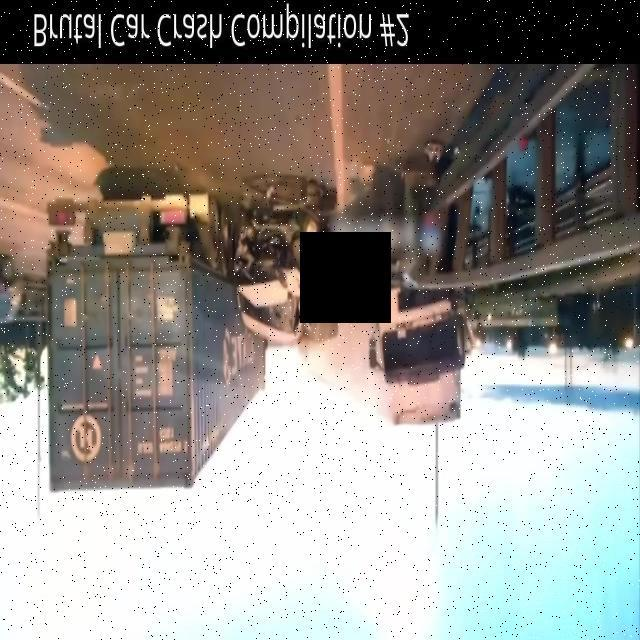severe: (45, 177, 336, 498), (232, 180, 470, 434)
